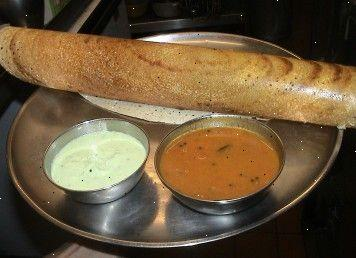dosa: (0, 29, 356, 132)
